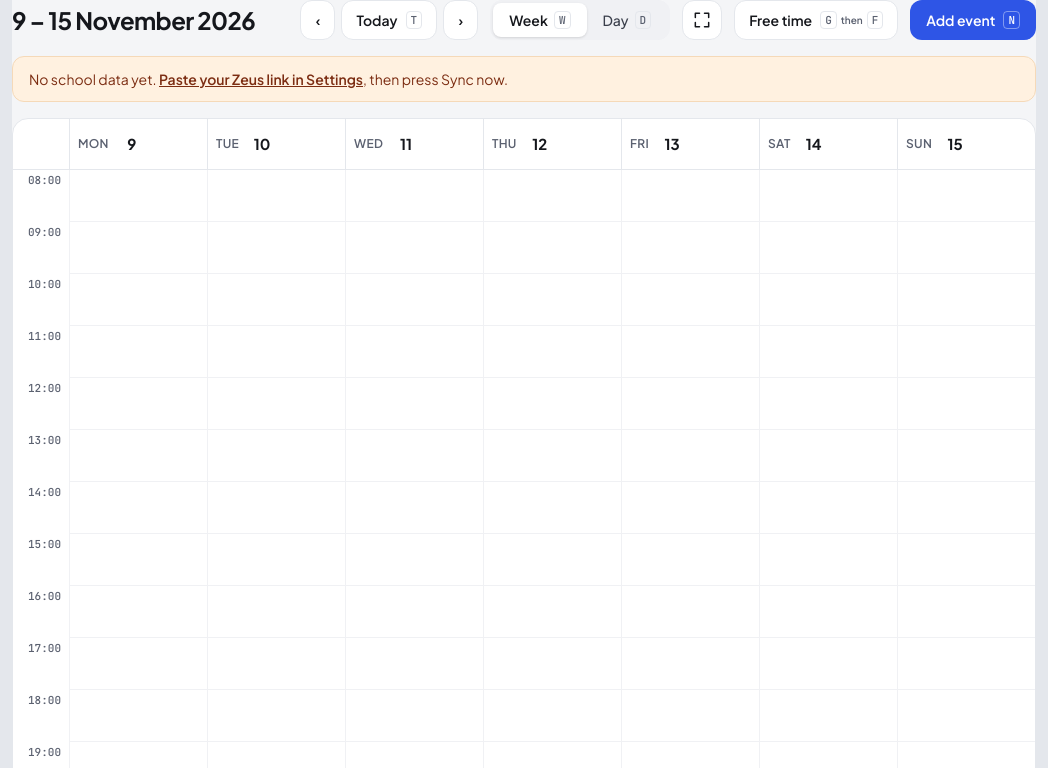
Test case: CalendarPage › keeps the shown week in the address so going back returns to it
Click the button named "Next week".
click(461, 20)  # box 443,0 -> 478,40
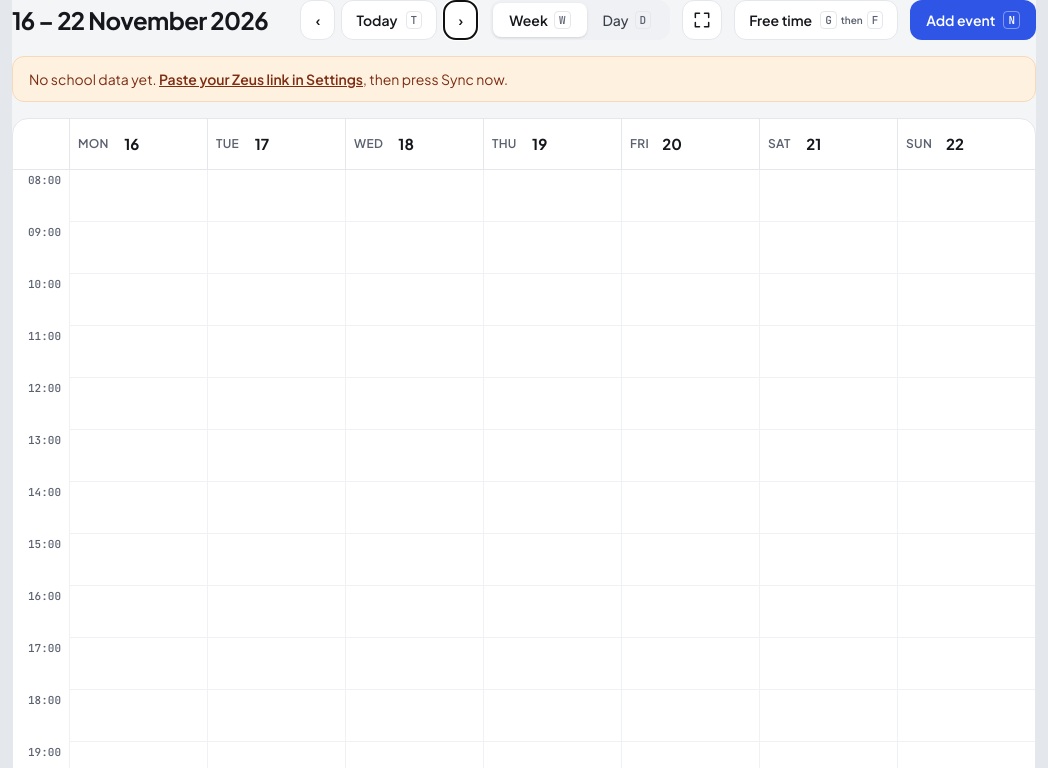
Result: the heading "16 – 22 November 2026" is shown at 12,4 -> 268,36
Click the button "day D".
click(627, 20)  # box 586,3 -> 667,37
(page scrolled)
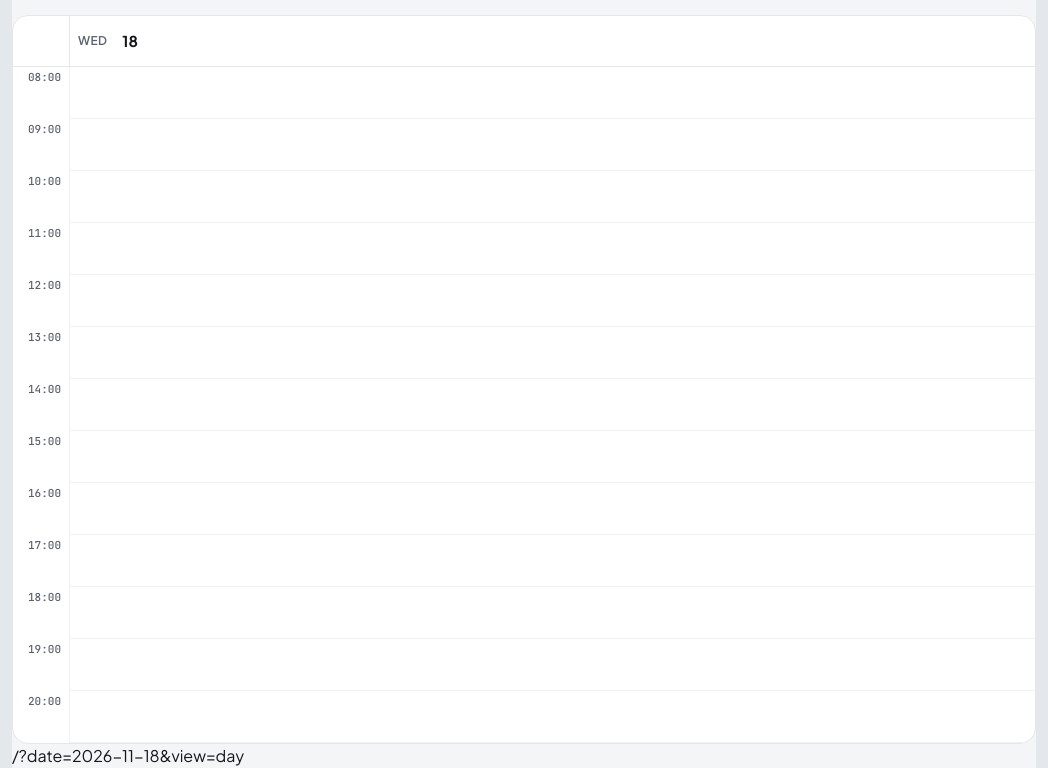
Result: the text with test id "where" reads "/?date=2026-11-18&view=day" at 12,745 -> 244,766
